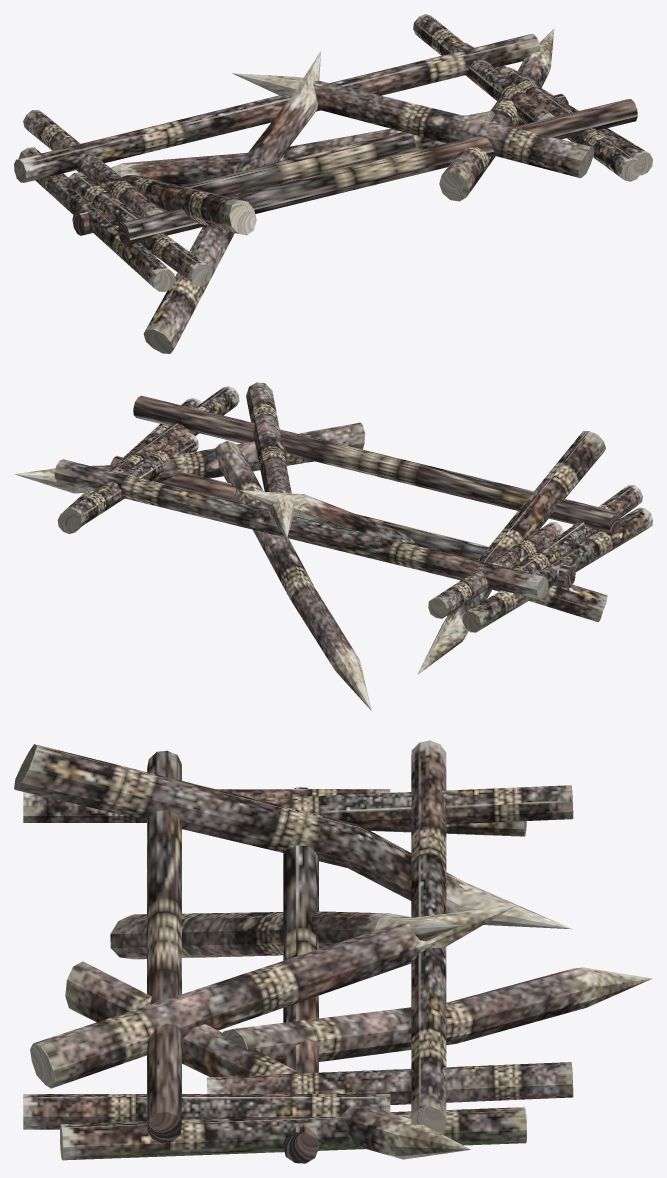
Rendered from barricade_broken.fbx.
3 renders of one model, top to bottom at view 1: azimuth 30°, elevation 25°; view 2: azimuth 150°, elevation 25°; view 3: azimuth 270°, elevation 25°, orthographic. The views are drawn at different scales.
Parts seen in each view (by area): view 1: Barricade_Broken; view 2: Barricade_Broken; view 3: Barricade_Broken.
Boxes of the visible parts, x1,y1,x2,y2 form: Barricade_Broken: [14, 14, 652, 353]; Barricade_Broken: [14, 382, 652, 710]; Barricade_Broken: [14, 740, 652, 1163].
Size of the model in its own units: 23.38 by 6.81 by 16.17.
